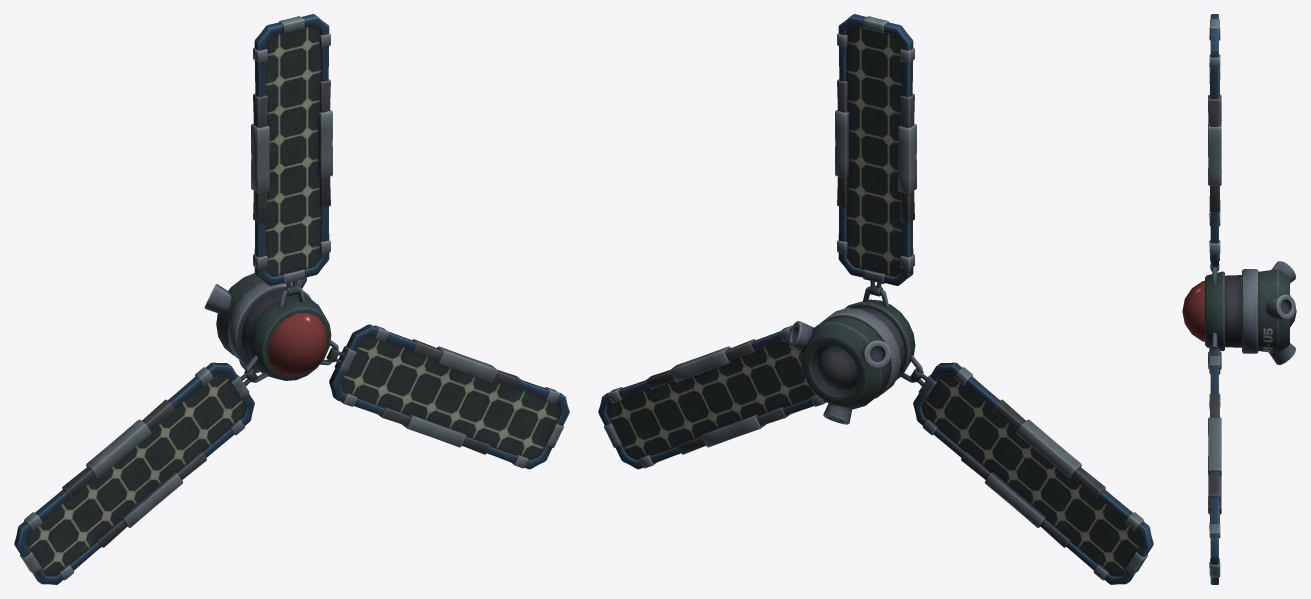
The model's file is Satellite_PIU3.fbx.
3 views of the same model, side by side, from view 1: azimuth 30°, elevation 25°; view 2: azimuth 150°, elevation 25°; view 3: azimuth 270°, elevation 25° (orthographic). The views are drawn at different scales.
Parts seen in each view (by area): view 1: Satellite_PIU3_FrontPart, Satellite_PIU3; view 2: Satellite_PIU3_FrontPart, Satellite_PIU3; view 3: Satellite_PIU3_FrontPart, Satellite_PIU3.
Boxes of the visible parts, left/top/right/bottom form: Satellite_PIU3_FrontPart: left=14, top=14, right=569, bottom=584; Satellite_PIU3: left=204, top=273, right=327, bottom=375; Satellite_PIU3_FrontPart: left=598, top=14, right=1153, bottom=584; Satellite_PIU3: left=788, top=308, right=900, bottom=424; Satellite_PIU3_FrontPart: left=1205, top=14, right=1241, bottom=584; Satellite_PIU3: left=1182, top=261, right=1296, bottom=364.
Bounding box in the file's own units: 1638 × 1435 × 327.
